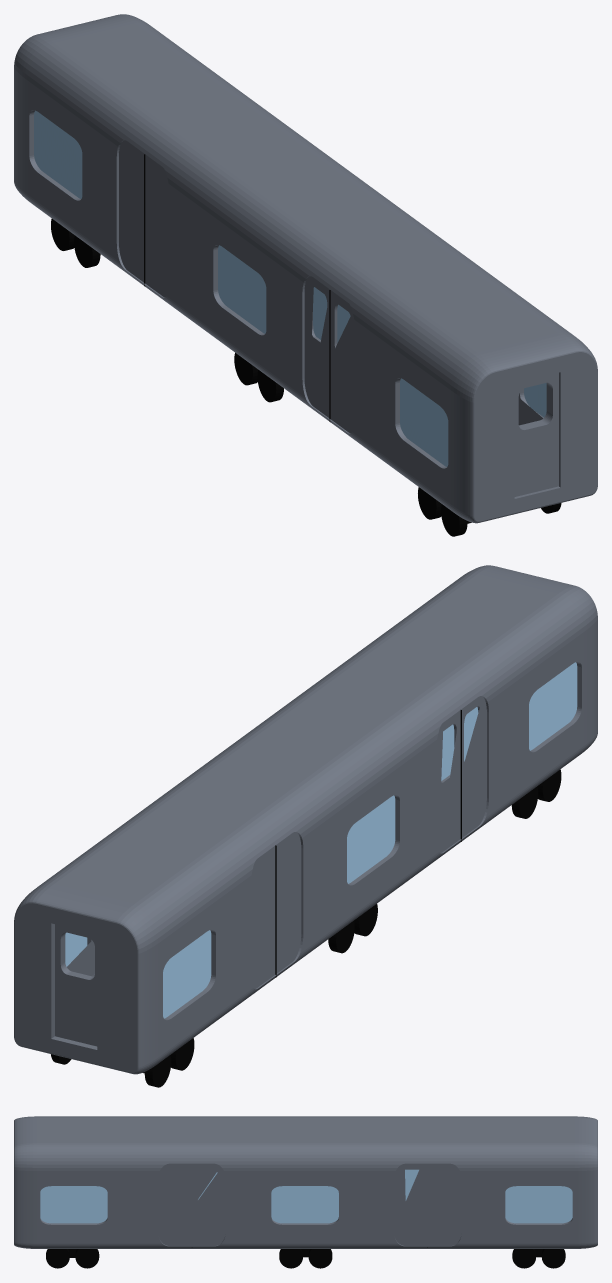
Rendered from SUBWAY.fbx.
3 views of the same model, one above another, from view 1: azimuth 30°, elevation 25°; view 2: azimuth 150°, elevation 25°; view 3: azimuth 270°, elevation 25° (orthographic). The views are drawn at different scales.
Parts seen in each view (by area): view 1: train.029; view 2: train.029; view 3: train.029.
Part boxes in pixels (box(x1,y1,x2,y2)): train.029: box(14, 14, 597, 536); train.029: box(14, 565, 597, 1087); train.029: box(14, 1116, 597, 1268).
Bounding box in the file's own units: 558 × 767 × 3324.
